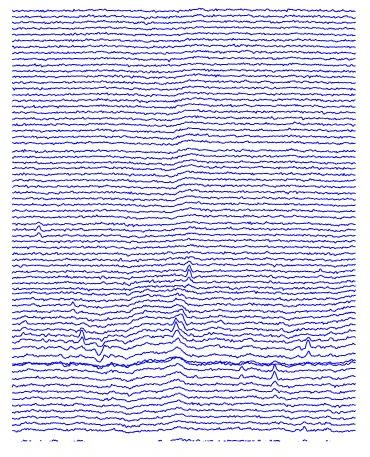defect: (267, 356, 285, 399), (169, 307, 186, 347), (179, 260, 195, 289), (300, 331, 314, 360), (30, 215, 45, 242), (75, 322, 86, 350)
